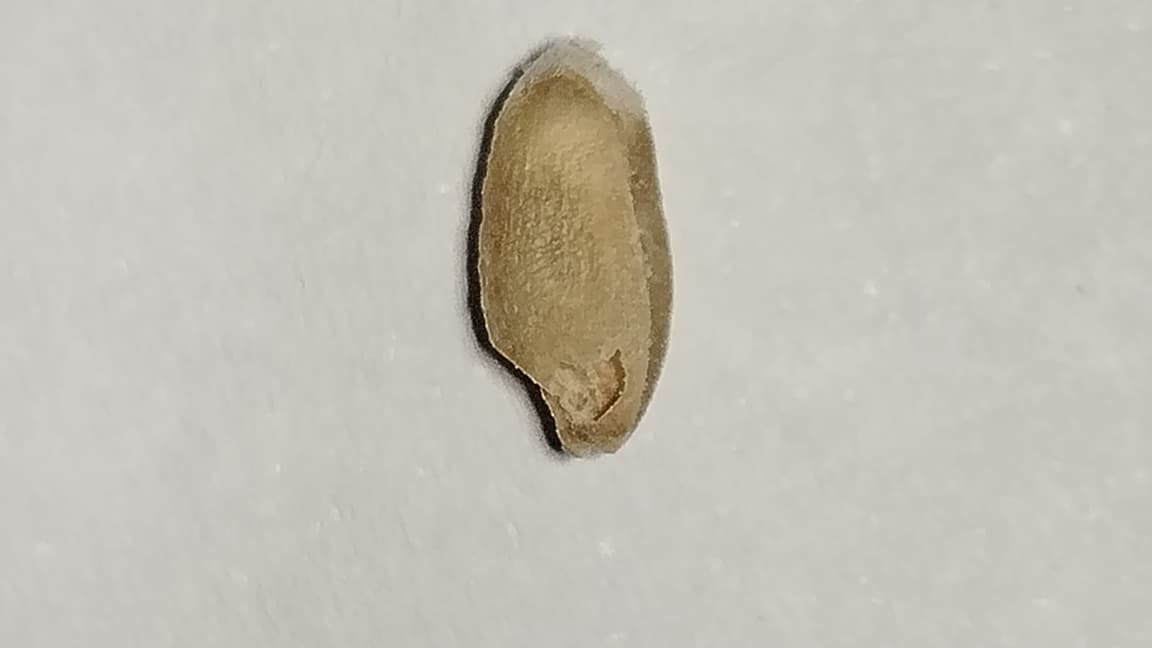damage: (477, 43, 670, 457)
insectdamage: (537, 322, 649, 452)
